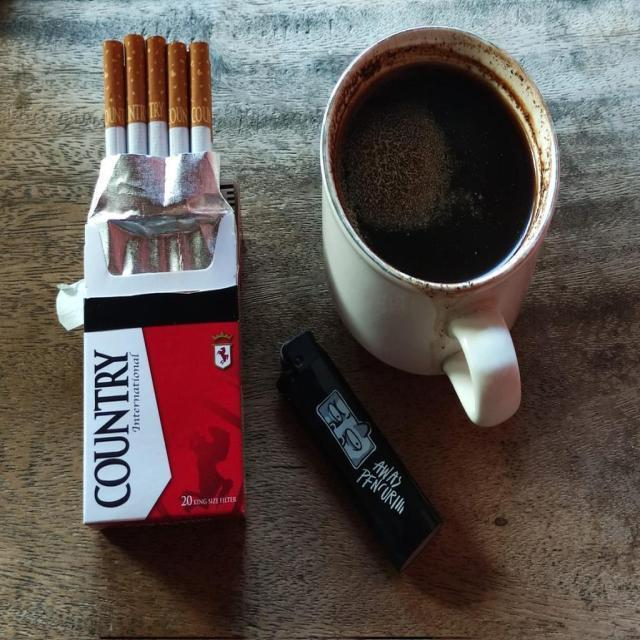rokok: (186, 35, 218, 165), (161, 34, 191, 170), (101, 30, 129, 166), (124, 24, 148, 168), (144, 28, 168, 164)
